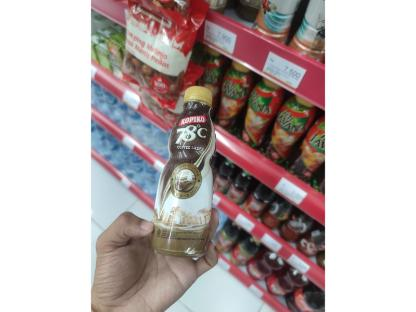Plastic Bottle: (143, 75, 233, 268)
